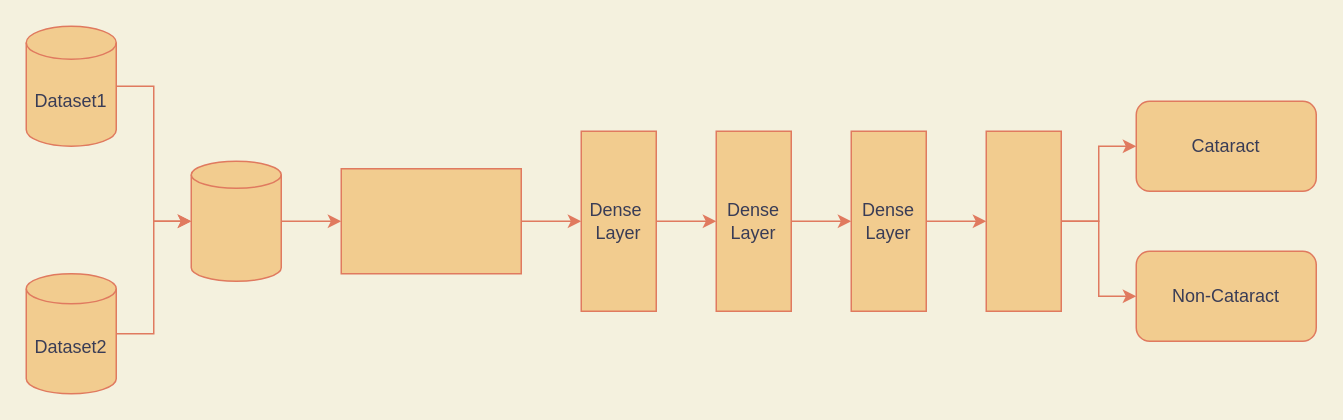
Image size: 1343x420. Some labels were removed from this diagram. The centre of each missing label's shape, as x and y in pixels:
"Cataract dataset" belongs at point (235, 220).
"Softmax Layer" belongs at point (1023, 220).
"Xception model" belongs at point (430, 220).
